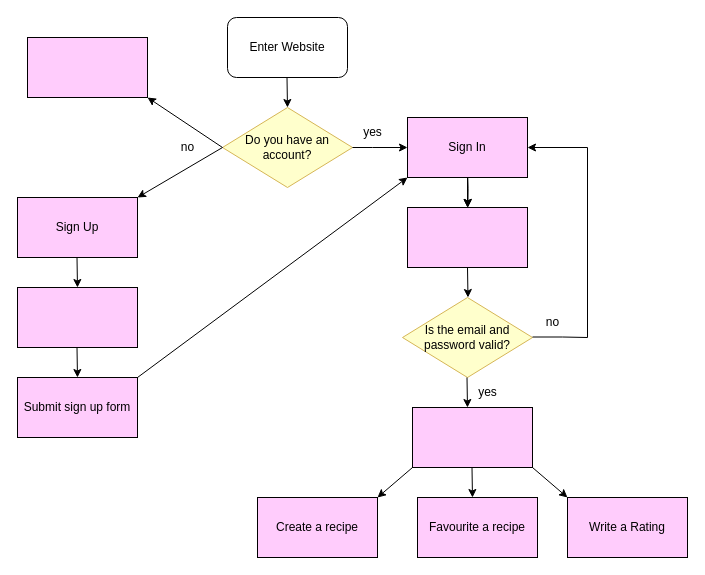
Some shapes in this 705 by 575 pixel diagram are drawn without their labels. Here are the shapes that lost their labels. From the top down, the centre of each, then its label:
(x=87, y=67): Can only view recipes anonymously
(x=467, y=237): Enter email and password
(x=77, y=317): Fill in form username, email, password
(x=472, y=437): Signed into Cake, Cookies and Crumble
